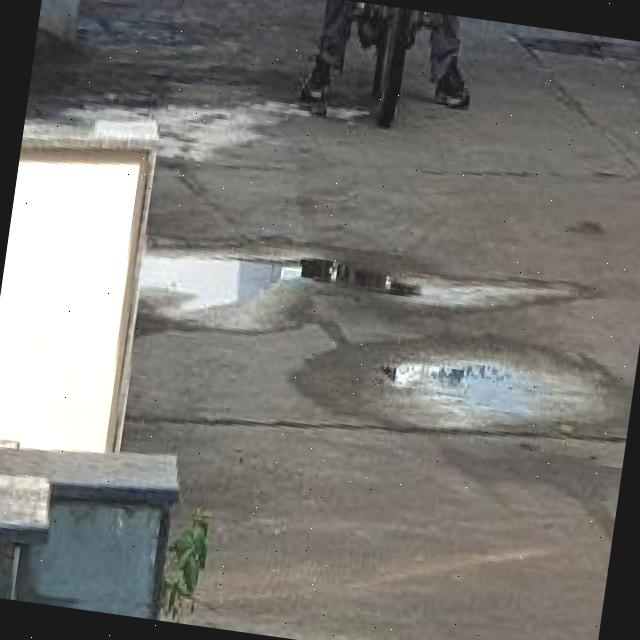stagnation: (140, 218, 583, 328), (343, 336, 613, 436)
